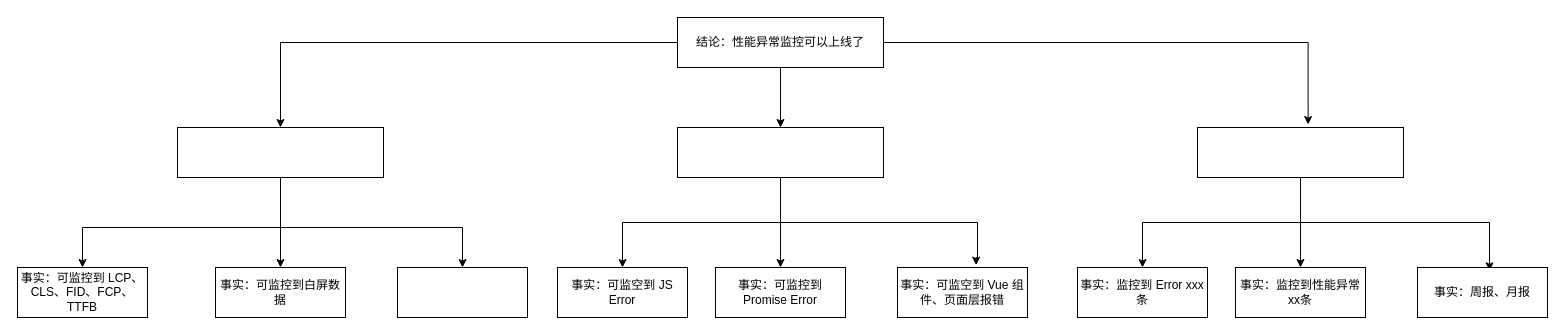
Image size: 1565x335. Some labels were removed from this diagram. The shapes that lost their labels are listed below. From the top down, each one's centre as x and y in pixels, then its label:
point (280, 152): 理由1：性能监控已经完善了
point (780, 152): 理由2：异常监控已经完善了
point (1300, 152): 理由3：已经在预发环境运行测试
point (462, 292): 事实：可监空到资源加载情况、网络数据
